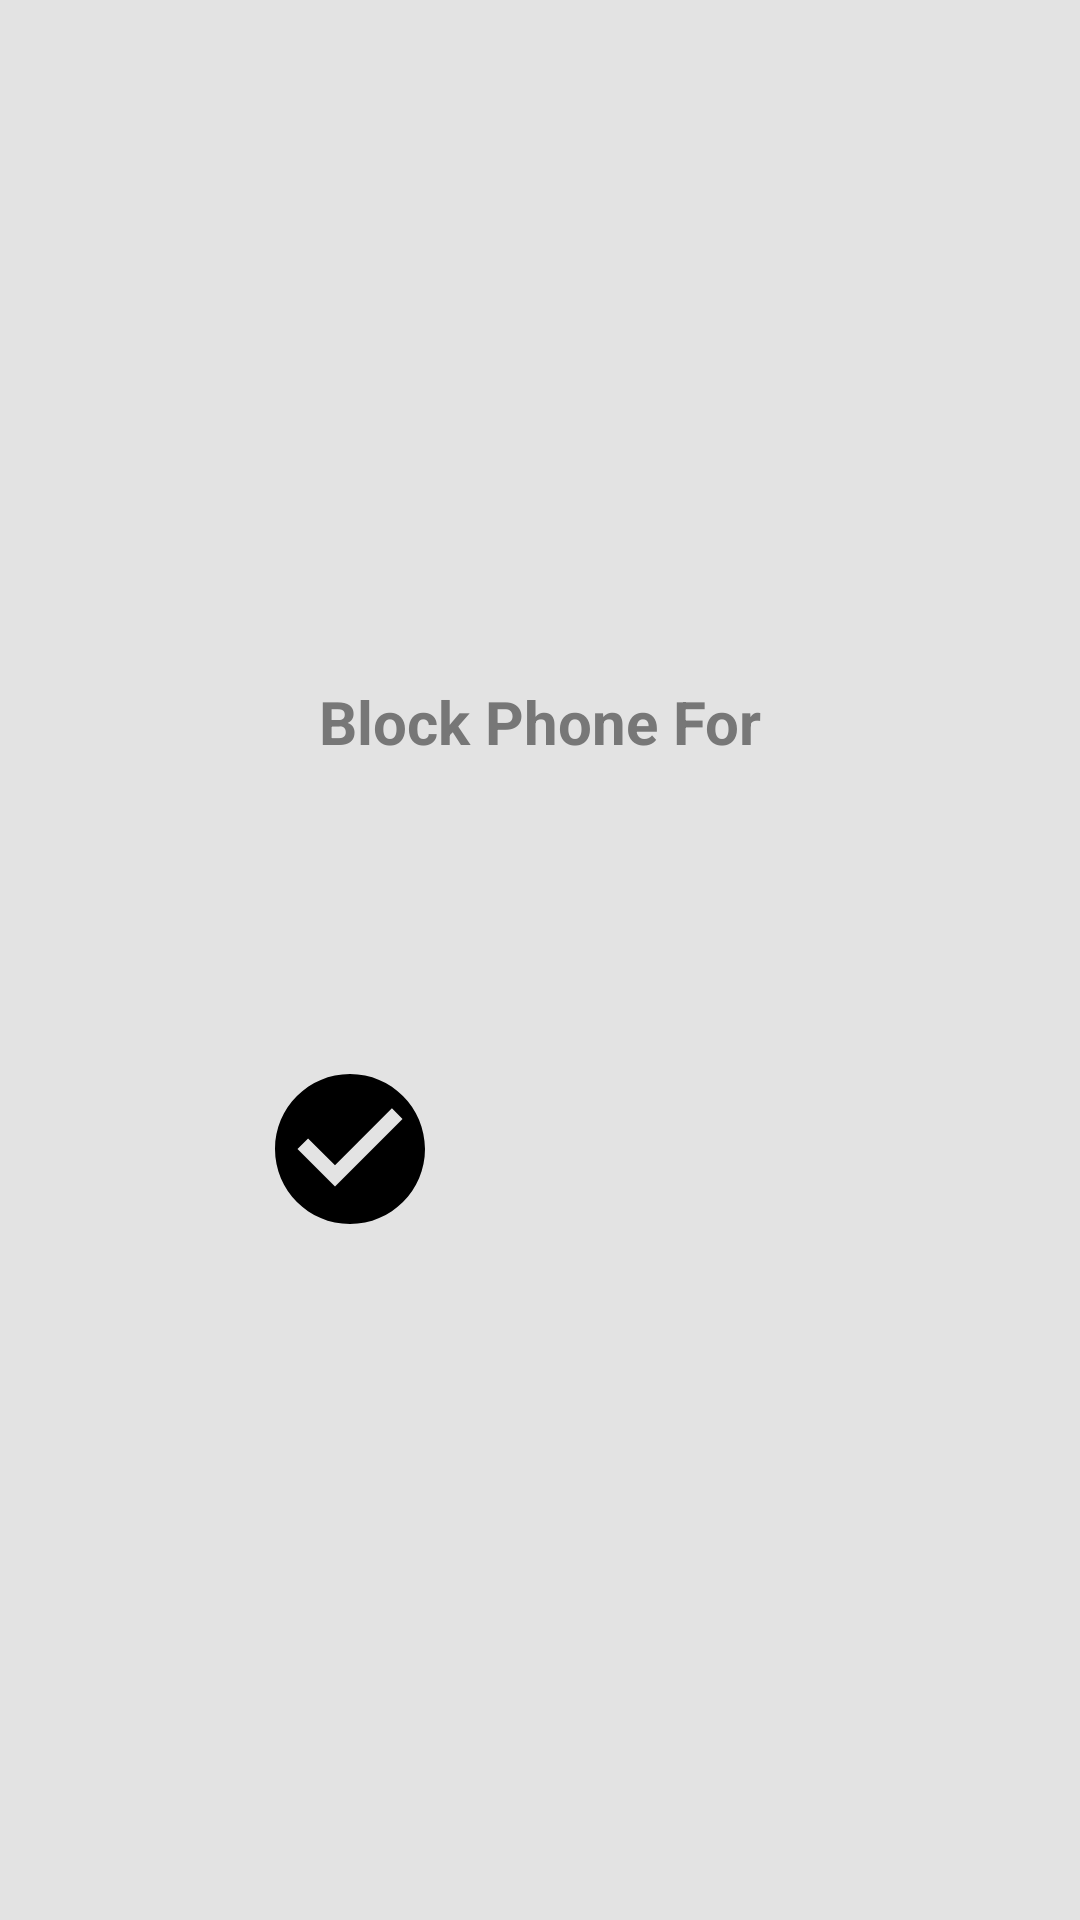

Locate icon controls on the screen. Image size 1080×1920, boxes as [x1=x1, y1=y1, x2=x2, y2=y2].
Confirm block: [x1=275, y1=1074, x2=425, y2=1224]
